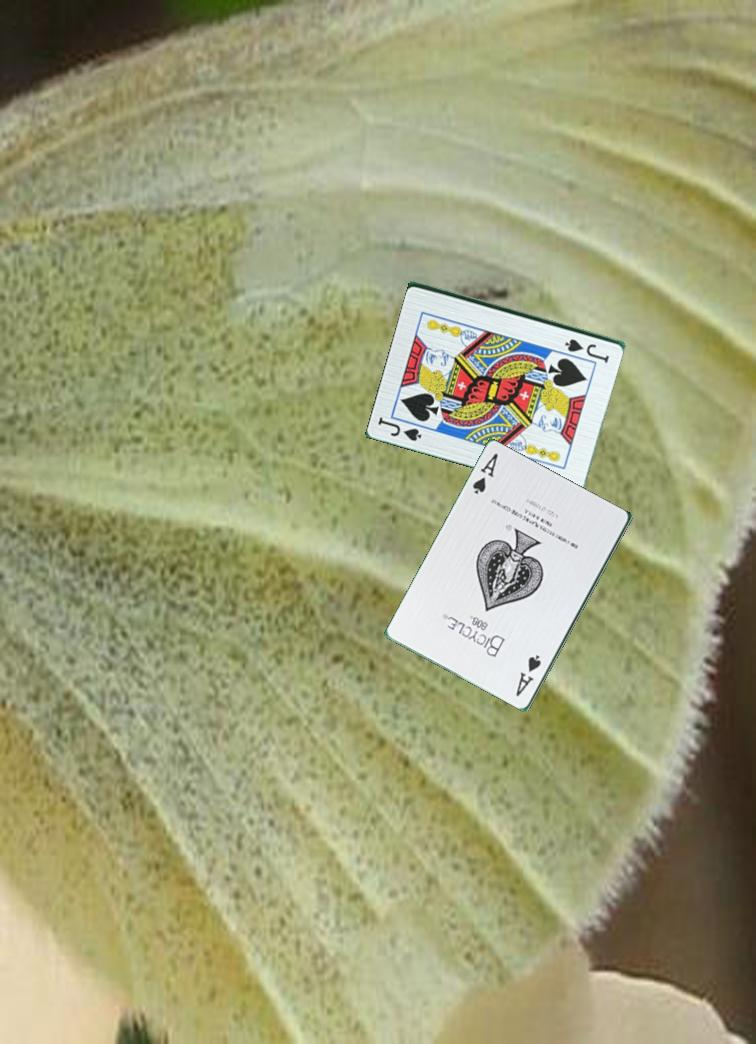as: (512, 652, 544, 700), (469, 450, 501, 498)
js: (375, 414, 425, 444), (561, 335, 613, 363)
